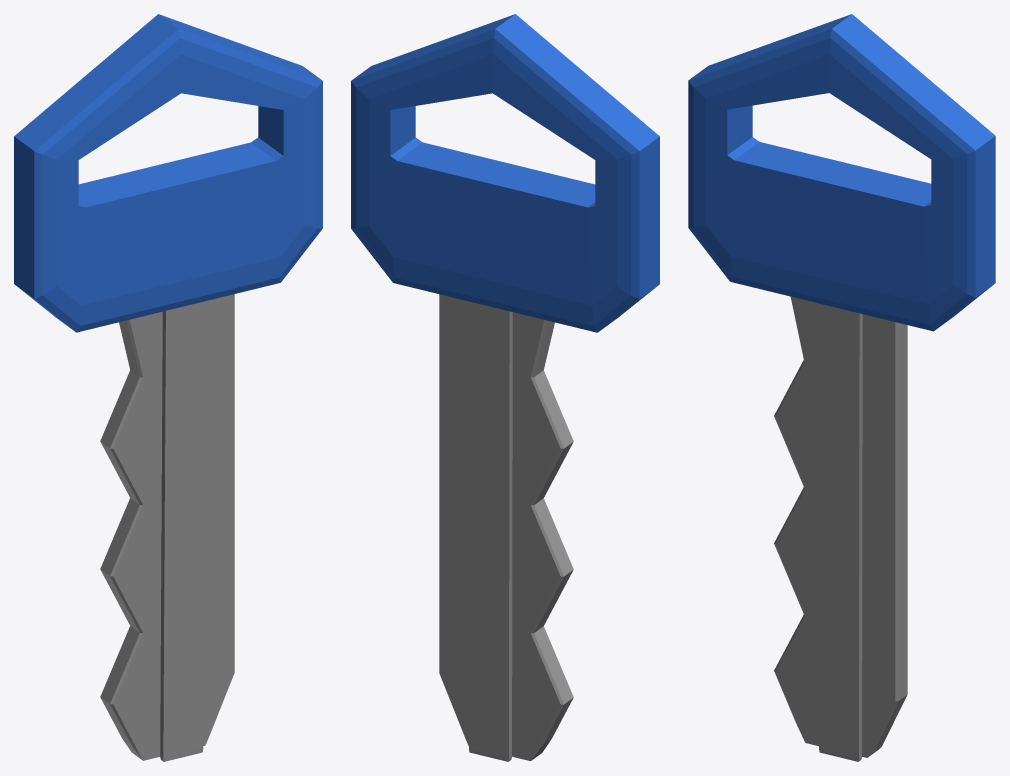
File: Llave01.fbx
3 renders of one model, left to right at view 1: azimuth 30°, elevation 25°; view 2: azimuth 150°, elevation 25°; view 3: azimuth 330°, elevation 25°, orthographic.
Visible parts, largest first — view 1: Llave01; view 2: Llave01; view 3: Llave01.
Part boxes in pixels (x1,y1,x2,y2): Llave01: (14,14,322,761); Llave01: (351,14,659,761); Llave01: (688,14,995,761).
Size of the model in its own units: 5.84 by 14.14 by 0.8918.
